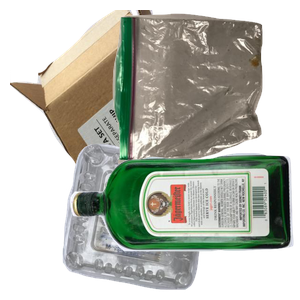cardboard: (10, 10, 227, 190)
glass: (67, 150, 300, 300)
plastic: (60, 141, 263, 300)
trash: (110, 11, 300, 167)
